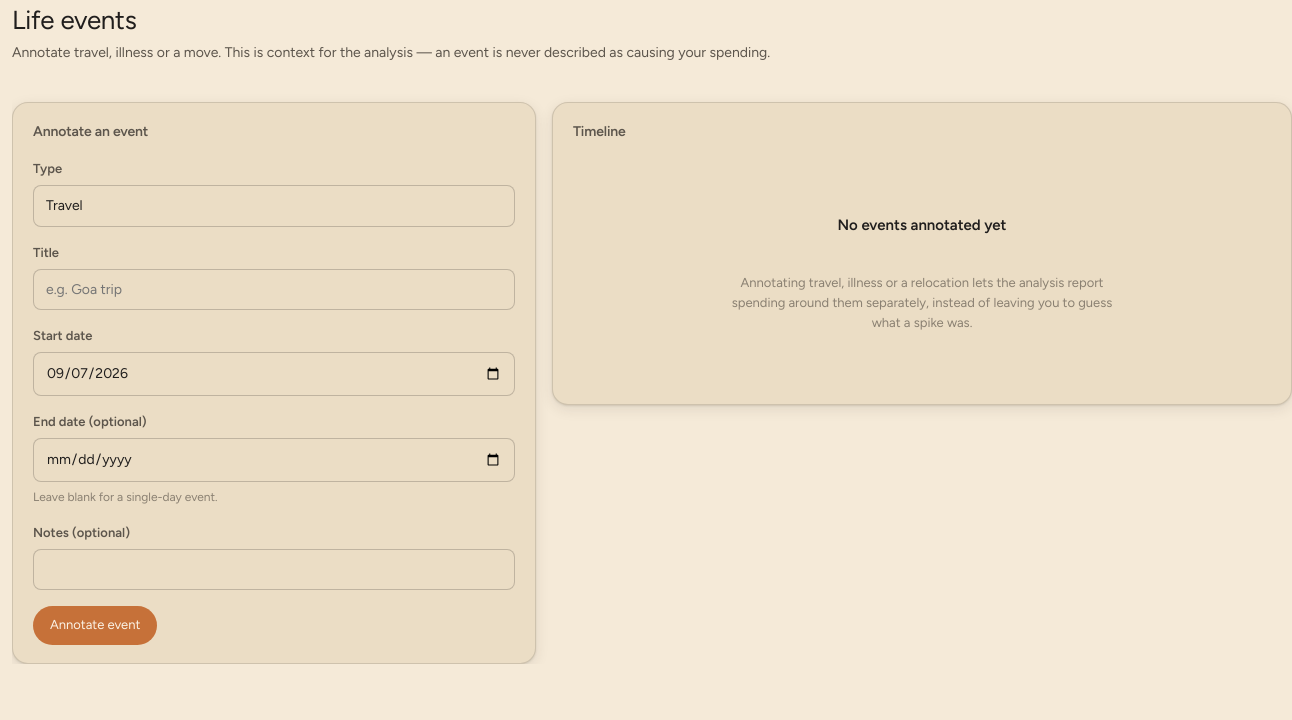
Test: life event form › requires a title
Expected: the heading "Annotate an event" is shown, [33,121,148,143]
Click the button "Annotate event": click(95, 625) [33,606,157,644]
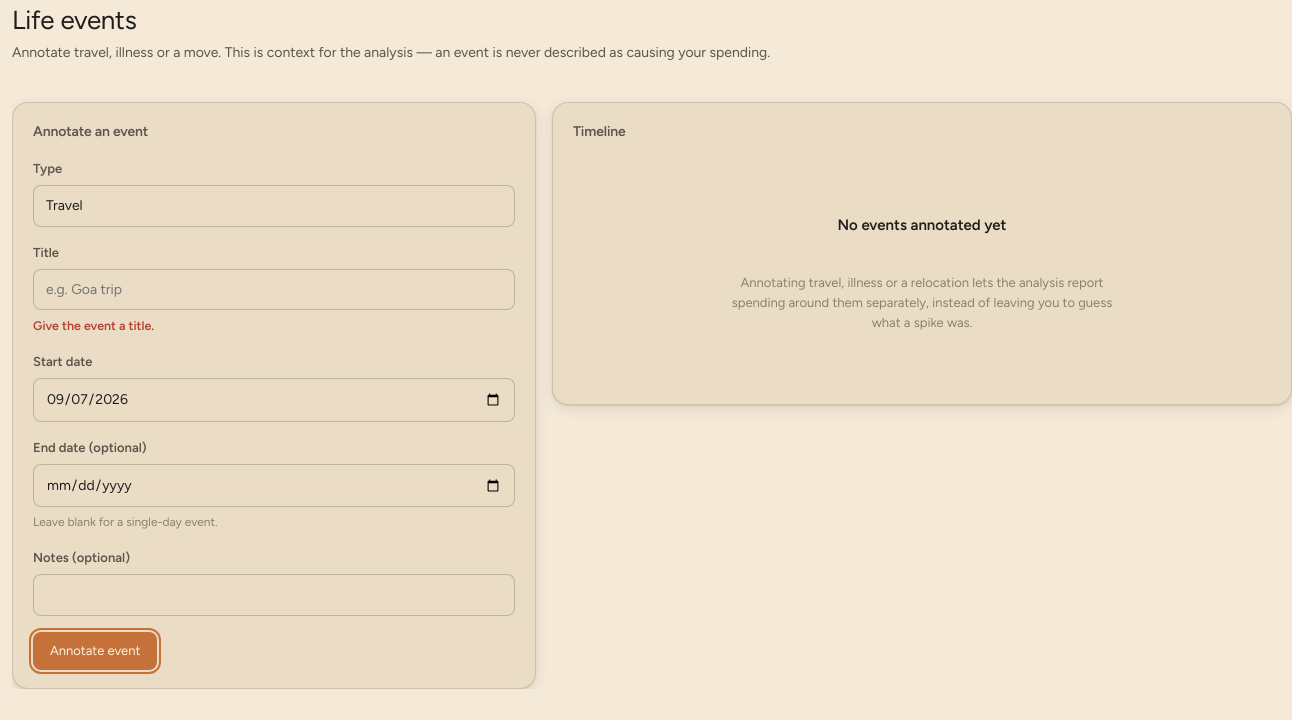
Expected: the text "Give the event a title." is shown, [33,318,154,333]
